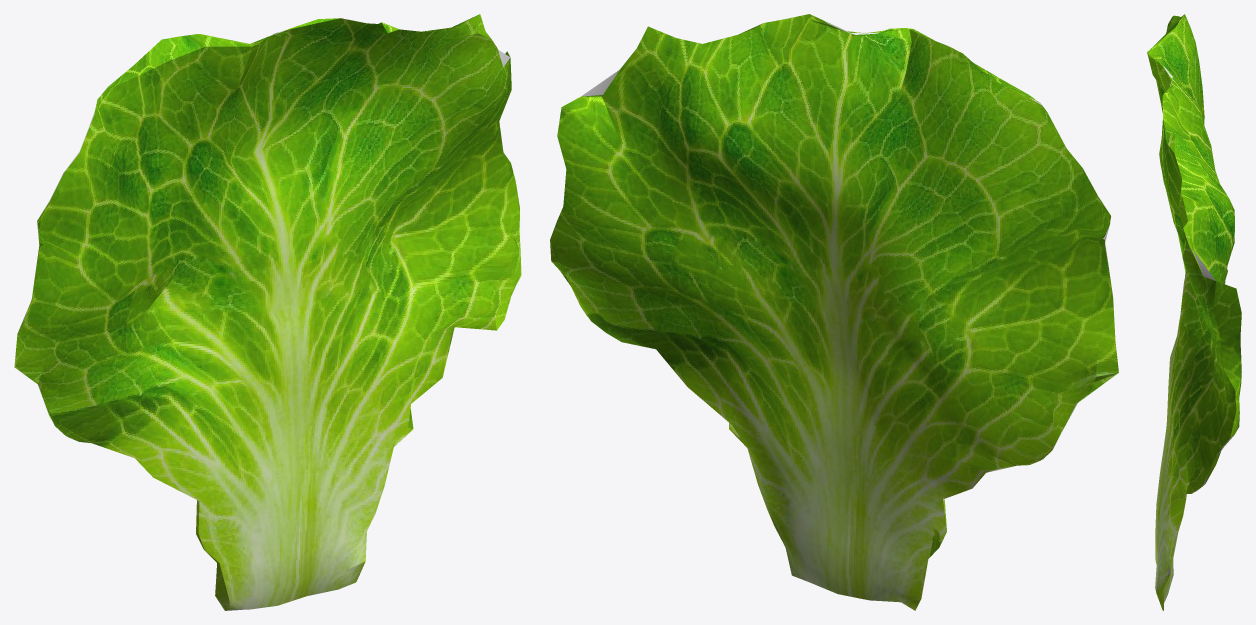
Rendered from lattuce_salad.glb.
3 views of the same model, side by side, from view 1: azimuth 30°, elevation 25°; view 2: azimuth 150°, elevation 25°; view 3: azimuth 270°, elevation 25° (orthographic). The views are drawn at different scales.
Visible parts, largest first — view 1: PolySphere; view 2: PolySphere; view 3: PolySphere.
Part boxes in pixels (x1,y1,x2,y2): PolySphere: (14, 14, 521, 610); PolySphere: (550, 14, 1118, 610); PolySphere: (1147, 14, 1241, 610).
Bounding box in the file's own units: 0.0154 × 0.016 × 0.00263.
1 material, 1 textured.
